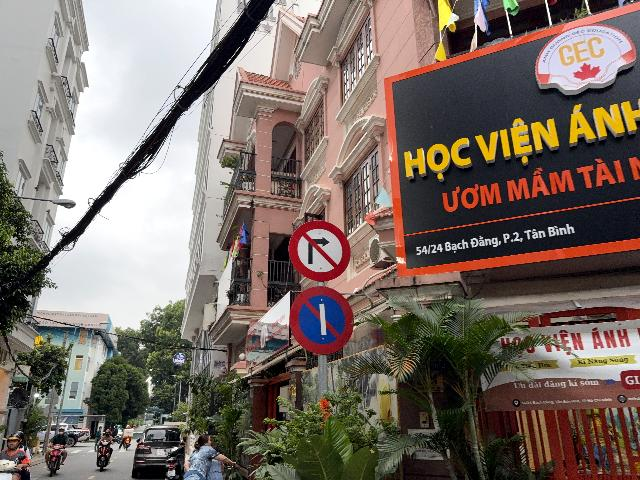cam-do-xe-ngay-le: (289, 285, 355, 356)
cam-re-phai: (288, 220, 351, 282)
